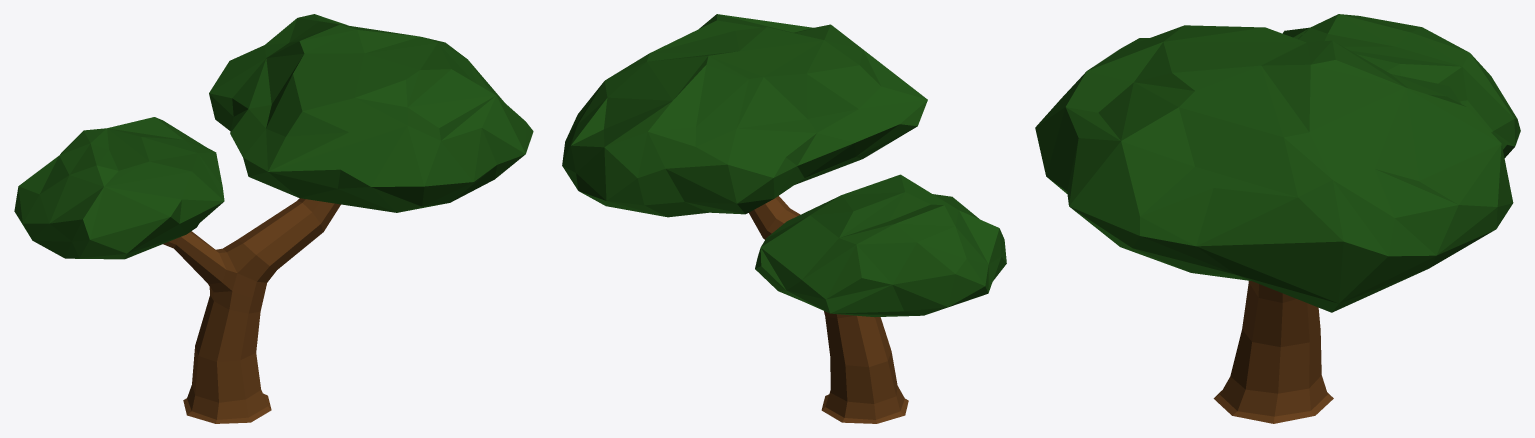
Rendered from 2020-09-08 WorldObjects.fbx_Tree2.fbx.
3 views of the same model, side by side, from view 1: azimuth 30°, elevation 25°; view 2: azimuth 150°, elevation 25°; view 3: azimuth 270°, elevation 25° (orthographic). The views are drawn at different scales.
Visible parts, largest first — view 1: Tree 2; view 2: Tree 2; view 3: Tree 2.
Boxes of the visible parts, <box> form: Tree 2: <box>14,14,533,423</box>; Tree 2: <box>562,14,1006,423</box>; Tree 2: <box>1035,14,1520,423</box>.
Size of the model in its own units: 12.22 by 9.02 by 9.35.
